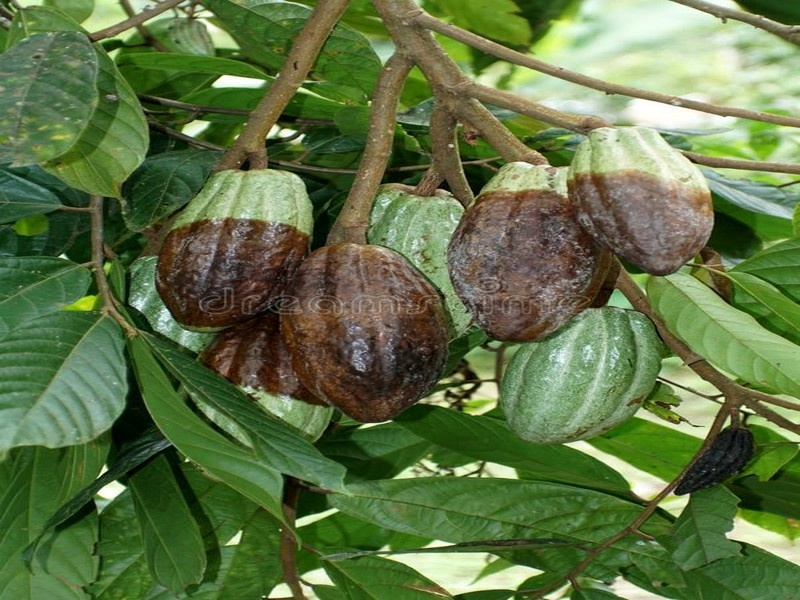Cacaopod: (127, 144, 319, 329), (277, 238, 459, 424), (447, 153, 608, 349), (567, 123, 721, 286), (486, 301, 663, 441)
